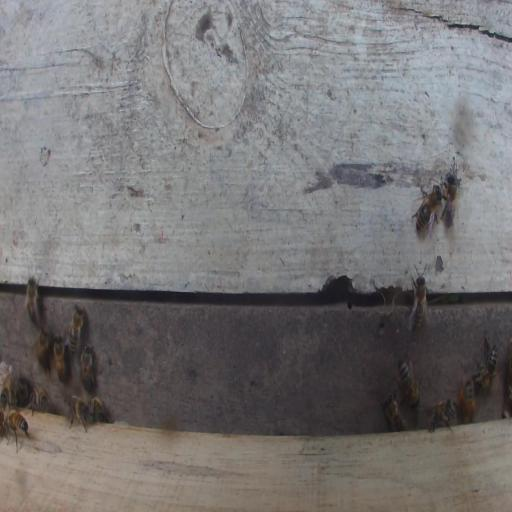bee: (412, 183, 443, 238), (472, 335, 498, 391), (408, 264, 429, 333), (440, 160, 460, 229), (397, 355, 420, 409), (5, 408, 31, 453), (426, 398, 456, 433), (382, 391, 407, 432), (69, 393, 92, 434), (68, 303, 85, 356), (25, 273, 41, 326), (53, 334, 68, 384), (34, 326, 51, 368), (459, 380, 475, 424), (81, 343, 95, 393), (28, 389, 49, 414), (89, 396, 106, 422)
